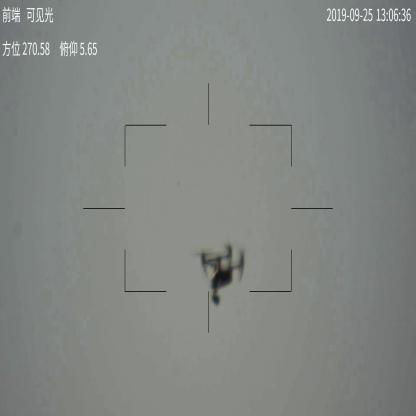uav: (192, 242, 254, 304)
